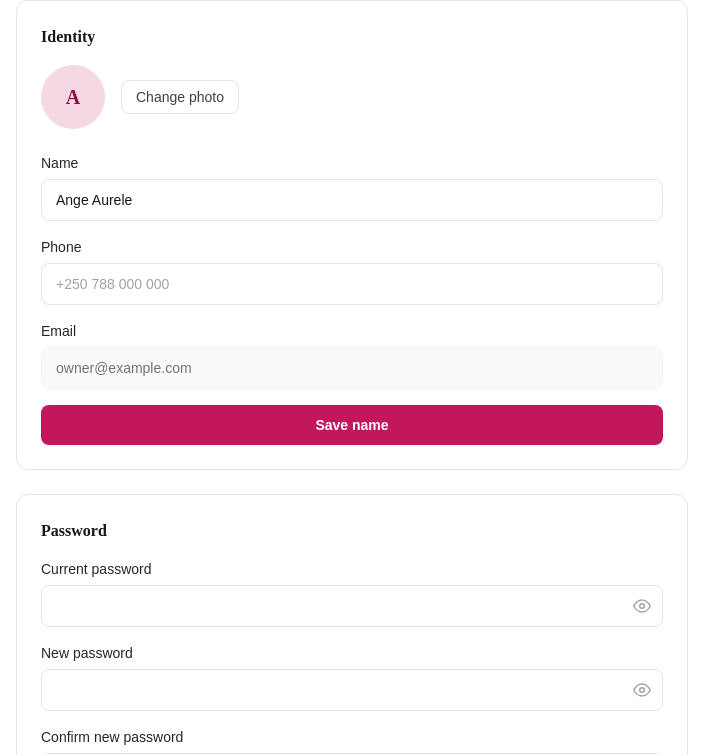
Test: Profile › shows the caller's name and email, and saves a new name
Check: the text "owner@example.com" is shown, box [41,347,663,389]
Replace the text in the field labelled "Name" with "New Name" at coordinates (352, 200), box [41,179,663,221]
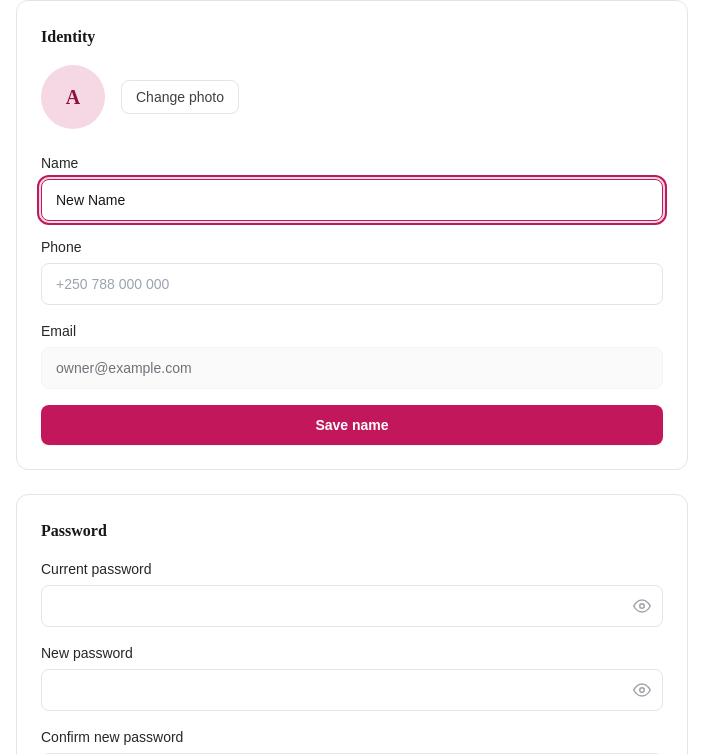
Click the button "Save name" at coordinates (352, 425), box [41,405,663,445]
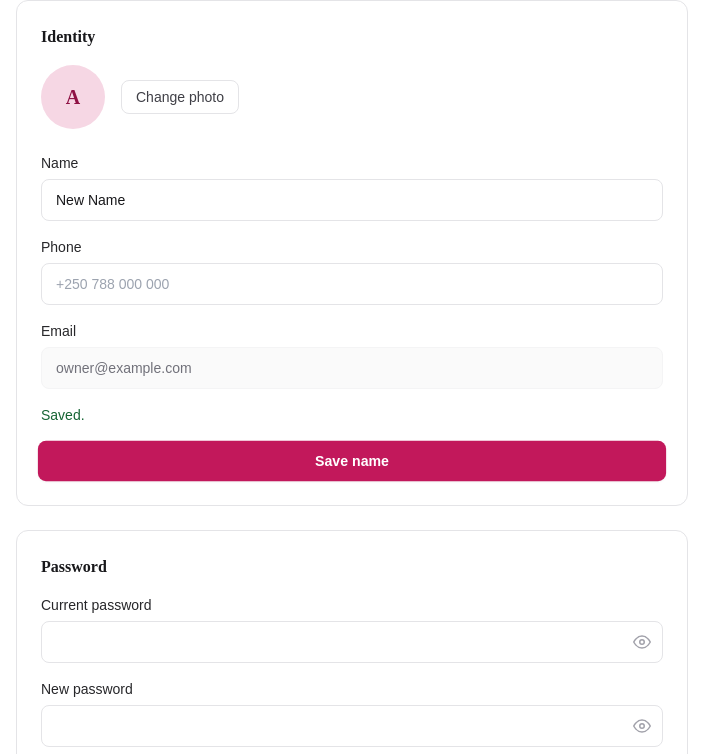
Check: the text "Saved." is shown, box [41,407,85,423]
